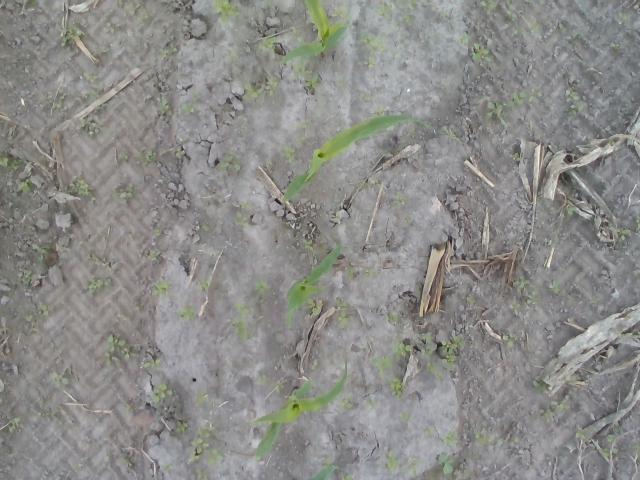Maize: (280, 112, 420, 199), (250, 355, 348, 460), (284, 246, 344, 329), (281, 0, 347, 68), (304, 463, 336, 480)
Weeds: (191, 424, 224, 465), (376, 0, 418, 32), (98, 333, 136, 366), (458, 29, 490, 62), (384, 449, 420, 478), (242, 75, 280, 102), (290, 61, 320, 93), (358, 30, 382, 70), (232, 302, 254, 342), (212, 0, 242, 28), (442, 334, 464, 368), (485, 100, 511, 128), (368, 353, 394, 378), (64, 174, 92, 197), (31, 241, 50, 272), (564, 89, 584, 117), (215, 151, 242, 171), (479, 0, 512, 15), (510, 89, 543, 104), (22, 303, 48, 322), (335, 300, 352, 329), (134, 142, 158, 162), (387, 375, 406, 400), (181, 89, 199, 115), (88, 276, 111, 296), (109, 181, 134, 199), (608, 222, 630, 242), (128, 2, 150, 22), (152, 383, 172, 405), (392, 337, 412, 358), (418, 332, 434, 358), (50, 366, 70, 386), (329, 5, 353, 21), (254, 276, 274, 295), (234, 199, 248, 226), (62, 24, 84, 41), (437, 454, 455, 474), (80, 118, 100, 136), (0, 155, 24, 170), (439, 125, 460, 142), (256, 34, 277, 51), (16, 269, 34, 287), (280, 142, 296, 162), (512, 273, 530, 290), (524, 16, 541, 33), (304, 298, 322, 314), (158, 46, 178, 60), (177, 306, 196, 320), (151, 282, 169, 296), (8, 416, 22, 433), (337, 397, 352, 412), (18, 178, 34, 192), (192, 391, 208, 405), (442, 430, 457, 444), (473, 432, 488, 446), (396, 192, 409, 208), (194, 467, 210, 480), (526, 286, 536, 306), (142, 250, 158, 262), (359, 177, 376, 188), (532, 380, 546, 393), (226, 49, 240, 62), (426, 360, 438, 375), (550, 400, 568, 410), (53, 93, 65, 108), (255, 372, 268, 384), (547, 279, 561, 290), (618, 10, 629, 24), (86, 70, 100, 81), (302, 239, 314, 251), (175, 420, 187, 432), (158, 98, 168, 112), (144, 360, 160, 368), (566, 206, 577, 217), (373, 105, 384, 116), (575, 426, 585, 438), (358, 93, 370, 103), (364, 268, 376, 278), (119, 456, 134, 464), (260, 0, 273, 9), (610, 42, 624, 50), (502, 334, 513, 344), (542, 408, 554, 417), (272, 383, 284, 392), (298, 120, 310, 129), (297, 32, 305, 45), (398, 412, 408, 422), (466, 294, 476, 304), (199, 279, 209, 289), (386, 314, 398, 322), (635, 214, 640, 232), (600, 447, 610, 456), (310, 360, 319, 370), (495, 438, 504, 448), (617, 332, 632, 338), (509, 303, 520, 311), (573, 32, 584, 40), (368, 398, 376, 408), (402, 216, 412, 224), (422, 427, 432, 435), (510, 28, 518, 38), (414, 287, 422, 296), (345, 264, 354, 272), (606, 434, 614, 442), (264, 159, 272, 167), (340, 475, 352, 480), (509, 153, 517, 160), (152, 228, 160, 234)
